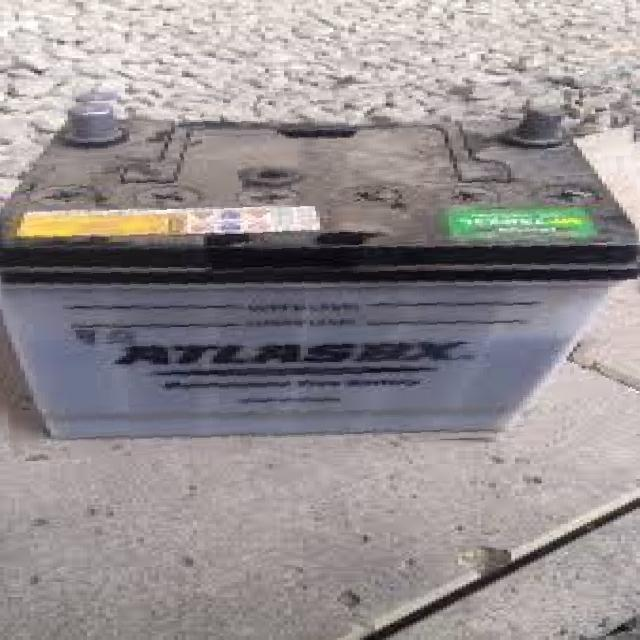Battery: (5, 80, 640, 463)
